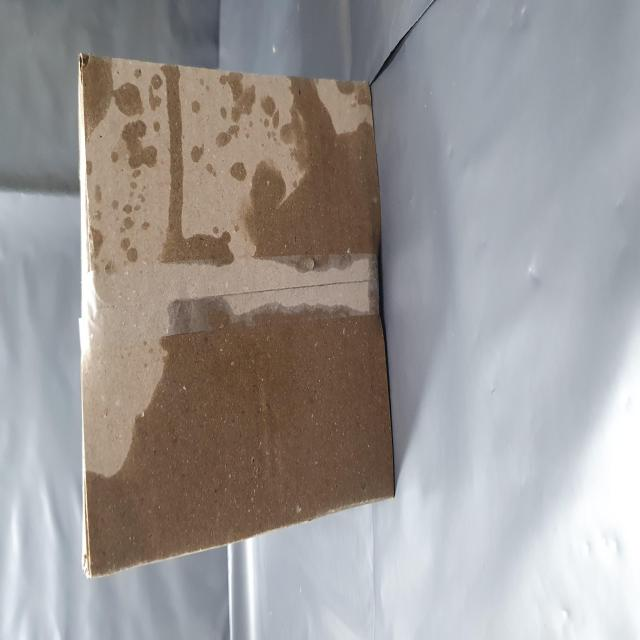wet: (40, 128, 316, 640)
